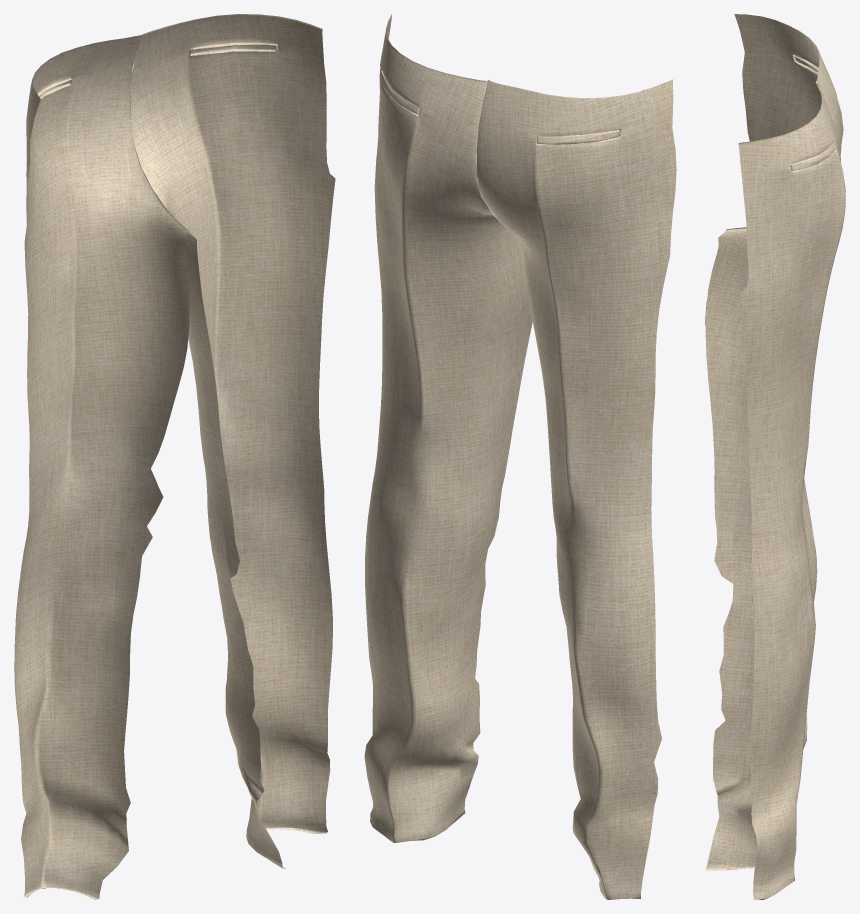
Rendered from Pant_back.glb.
3 renders of one model, left to right at view 1: azimuth 30°, elevation 25°; view 2: azimuth 150°, elevation 25°; view 3: azimuth 270°, elevation 25°, orthographic. The views are drawn at different scales.
Parts seen in each view (by area): view 1: Pant_back; view 2: Pant_back; view 3: Pant_back.
Part boxes in pixels (x1,y1,x2,y2): Pant_back: (14, 14, 335, 899); Pant_back: (364, 14, 676, 899); Pant_back: (705, 14, 845, 899).
Size of the model in its own units: 0.0495 by 0.125 by 0.021.
Materials: 1 (1 with a texture image).
